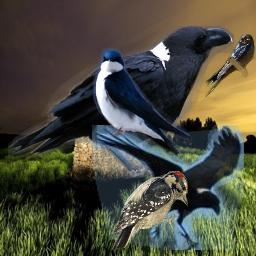Crow: (8, 26, 234, 189), (92, 125, 244, 250)
Swallow: (93, 48, 190, 154), (205, 34, 255, 97)
Woodpecker: (104, 170, 188, 254)
